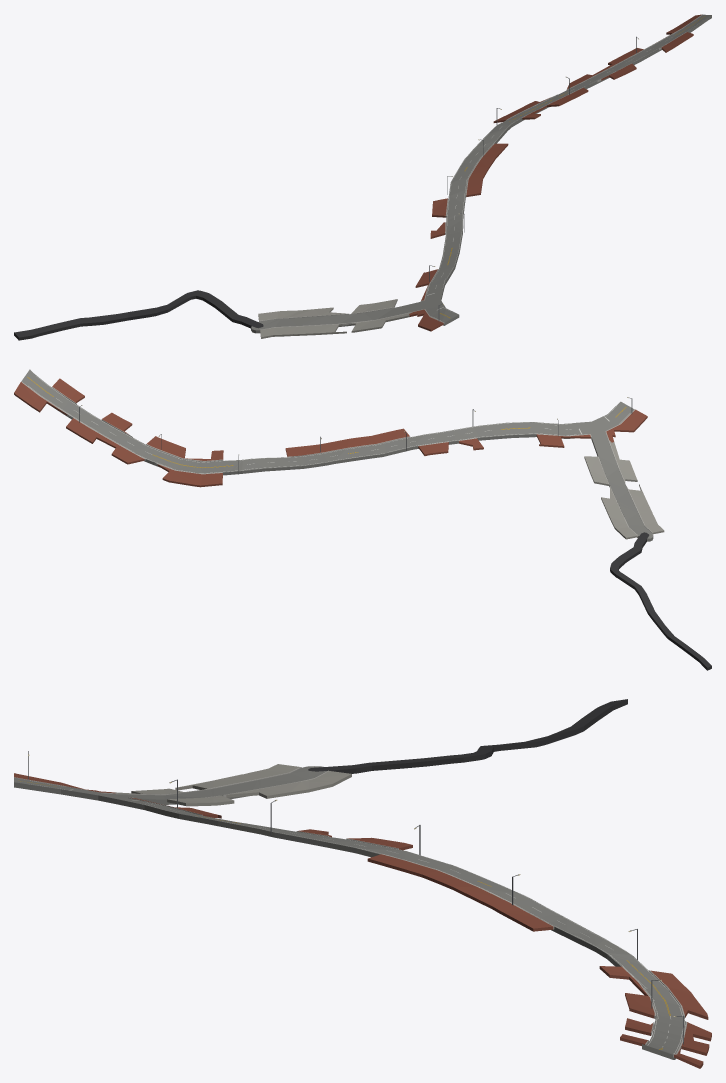
3 views of the same model, one above another, from view 1: azimuth 30°, elevation 25°; view 2: azimuth 150°, elevation 25°; view 3: azimuth 270°, elevation 25° (orthographic). The views are drawn at different scales.
Bounding box in the file's own units: 293 × 58.94 × 146.
